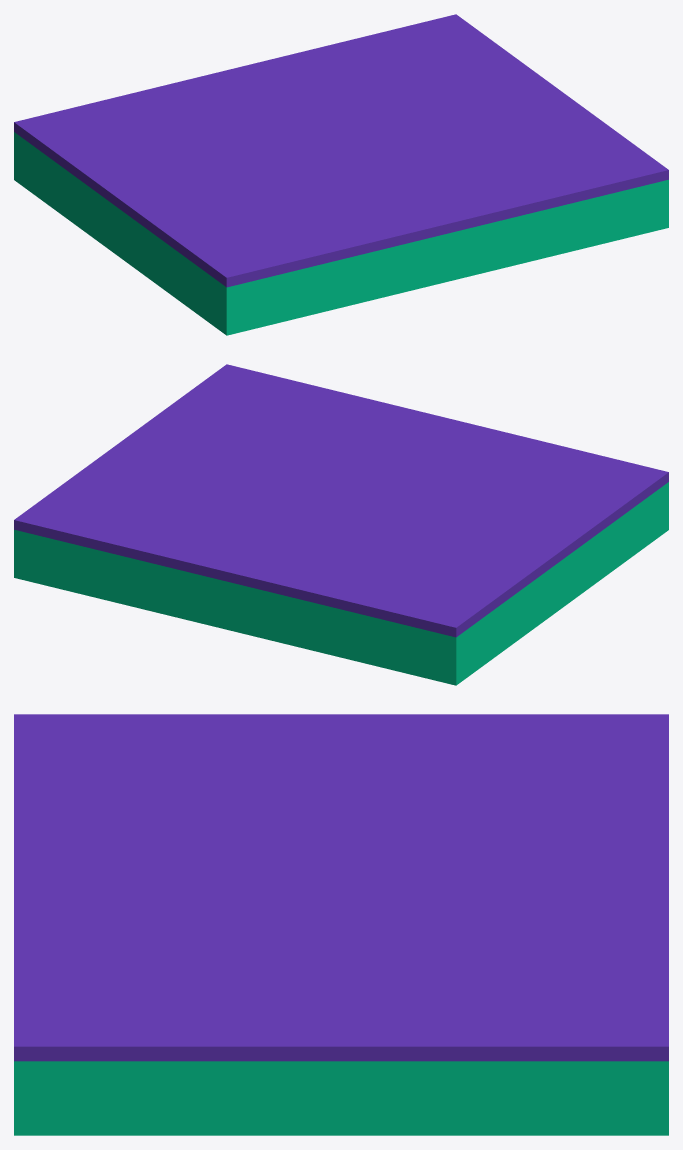
The model's file is floor.glb.
3 renders of one model, top to bottom at view 1: azimuth 30°, elevation 25°; view 2: azimuth 150°, elevation 25°; view 3: azimuth 270°, elevation 25°, orthographic. The views are drawn at different scales.
Parts seen in each view (by area): view 1: Cube.003, Cube.002, Cube.004; view 2: Cube.003, Cube, Cube.004; view 3: Cube.003, Cube.001.
Boxes of the visible parts, box(x1,y1,x2,y2) form: Cube.003: box(14, 14, 668, 287); Cube.002: box(226, 179, 668, 335); Cube.004: box(14, 132, 226, 335); Cube.003: box(14, 364, 668, 637); Cube: box(14, 529, 456, 685); Cube.004: box(456, 482, 668, 685); Cube.003: box(14, 714, 668, 1061); Cube.001: box(14, 1061, 668, 1135).
Size of the model in its own units: 96 by 12 by 80.
3 materials, 1 textured.
